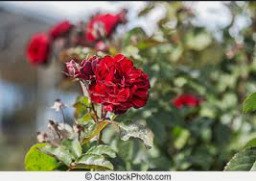RedRose: (82, 47, 154, 116)
